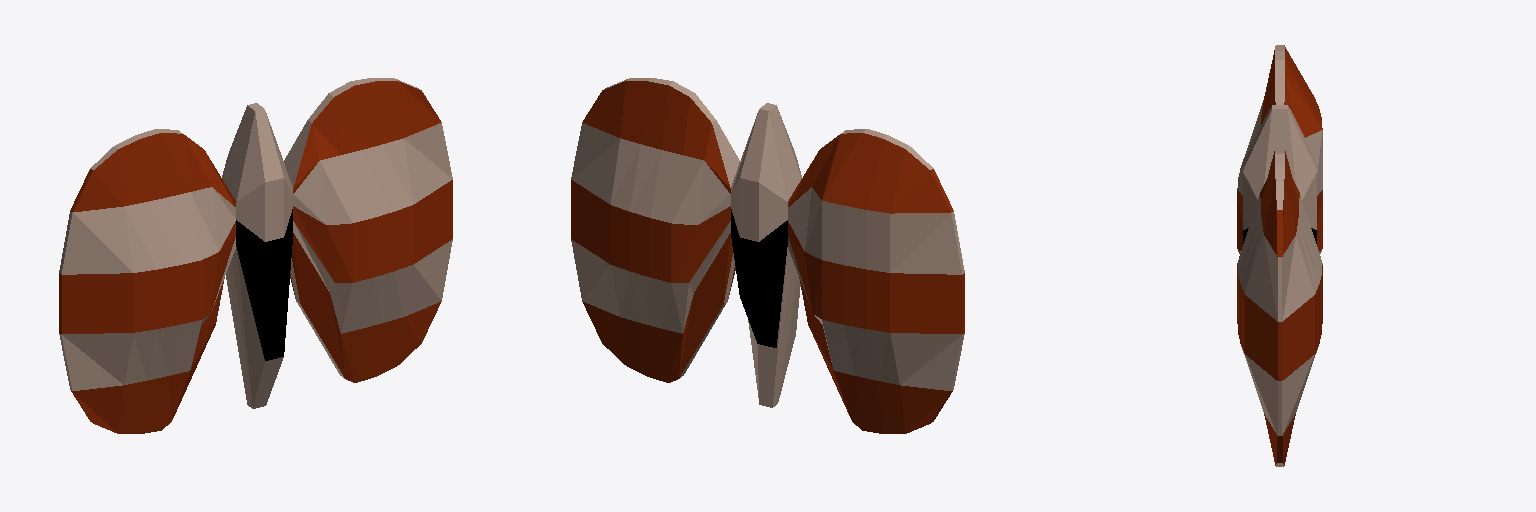
The model's file is ship3.obj.
The picture shows the model from 3 angles: view 1: azimuth 30°, elevation 25°; view 2: azimuth 150°, elevation 25°; view 3: azimuth 270°, elevation 25°; orthographic projection.
Visible parts, largest first — view 1: cube.006; view 2: cube.006; view 3: cube.006.
Boxes of the visible parts, <box> form: cube.006: <box>59,78,452,433</box>; cube.006: <box>571,78,964,433</box>; cube.006: <box>1237,45,1322,466</box>.
Bounding box in the file's own units: 2.83 × 2.06 × 0.5335.